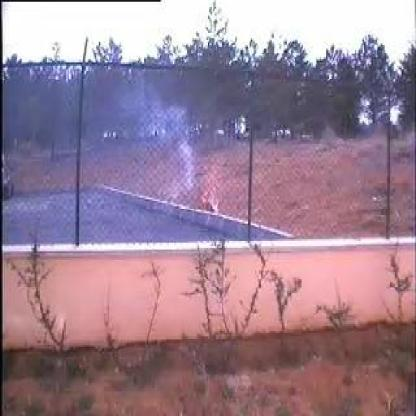-: (80, 70, 202, 242)
